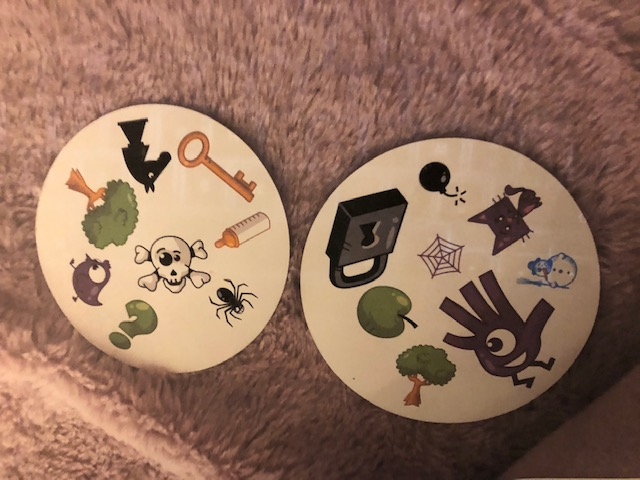araignee: (207, 273, 260, 329)
arbre: (62, 167, 141, 252), (393, 342, 457, 409)
biberon: (210, 209, 273, 253)
bombe: (415, 159, 469, 206)
bonhomme_neige: (514, 249, 580, 293)
cadenas: (322, 185, 409, 287)
chat: (466, 182, 548, 256)
cheval: (115, 115, 173, 191)
cle: (172, 126, 262, 205)
dooble: (434, 266, 568, 390)
oiseau: (64, 252, 117, 307)
point_interrogation: (108, 298, 160, 349)
pomme: (351, 283, 422, 342)
tete_mort: (131, 228, 215, 298)
toile: (414, 228, 468, 280)
